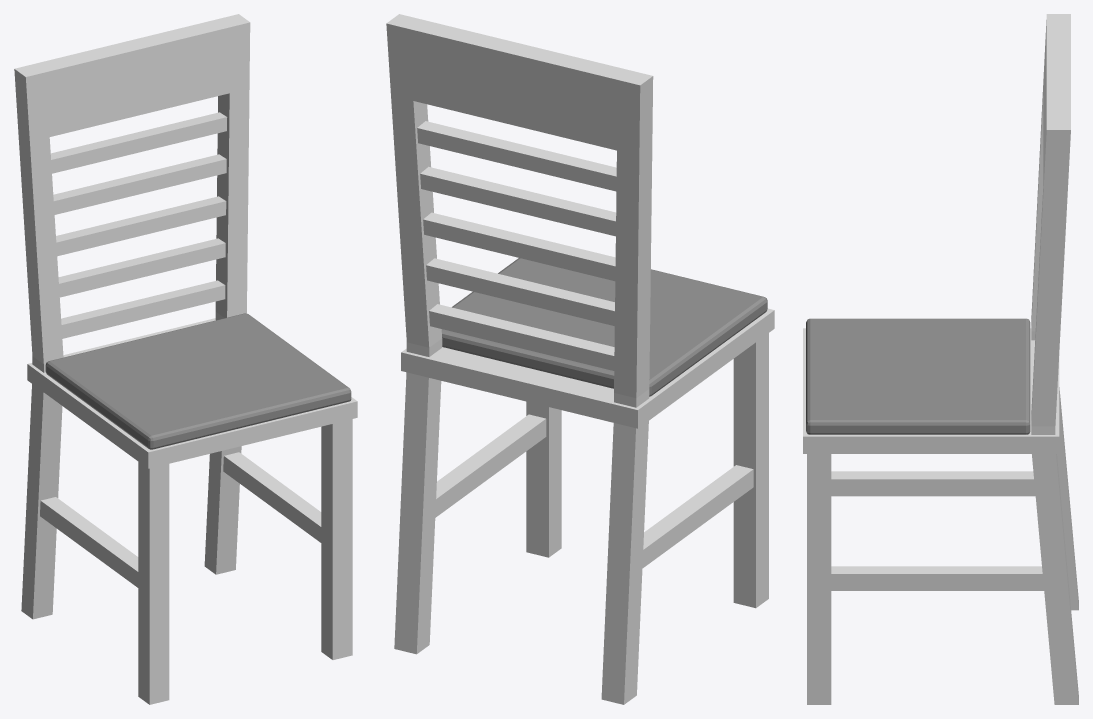
Rendered from Chair_04_C1.fbx.
3 views of the same model, side by side, from view 1: azimuth 30°, elevation 25°; view 2: azimuth 150°, elevation 25°; view 3: azimuth 270°, elevation 25° (orthographic). The views are drawn at different scales.
Parts seen in each view (by area): view 1: Chair_04_C1; view 2: Chair_04_C1; view 3: Chair_04_C1.
Part boxes in pixels (box(x1,y1,x2,y2)): Chair_04_C1: box(14, 14, 357, 704); Chair_04_C1: box(386, 14, 774, 704); Chair_04_C1: box(803, 14, 1078, 704).
Size of the model in its own units: 42.89 by 100 by 43.04.
